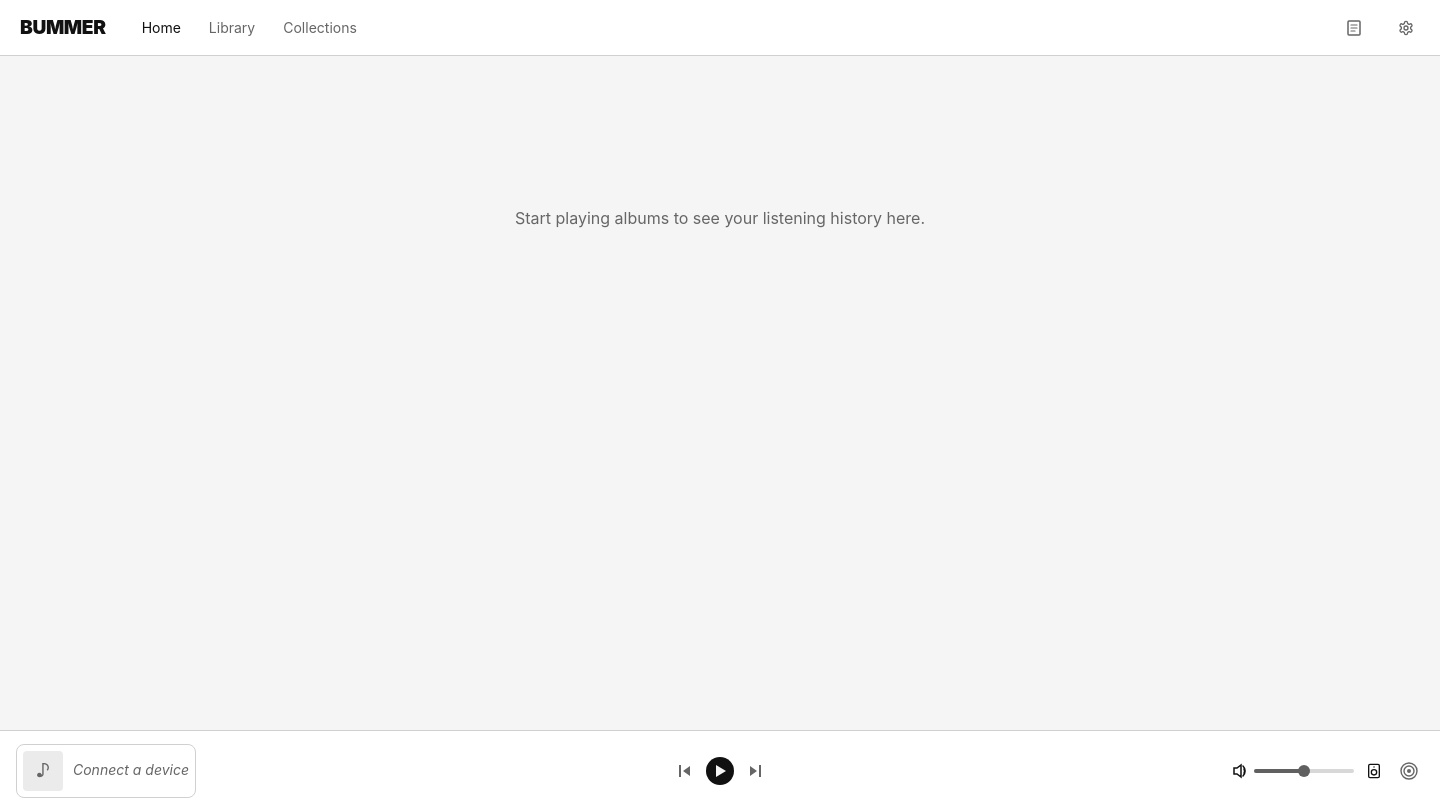
Test case: App — localStorage cache + syncing pulse › updates localStorage after background fetch completes
This screenshot has width=1440, height=810.
Switch to Albums view to see album content
Step 1. Click the button "Library" → (232, 28), box [197, 12, 267, 44]
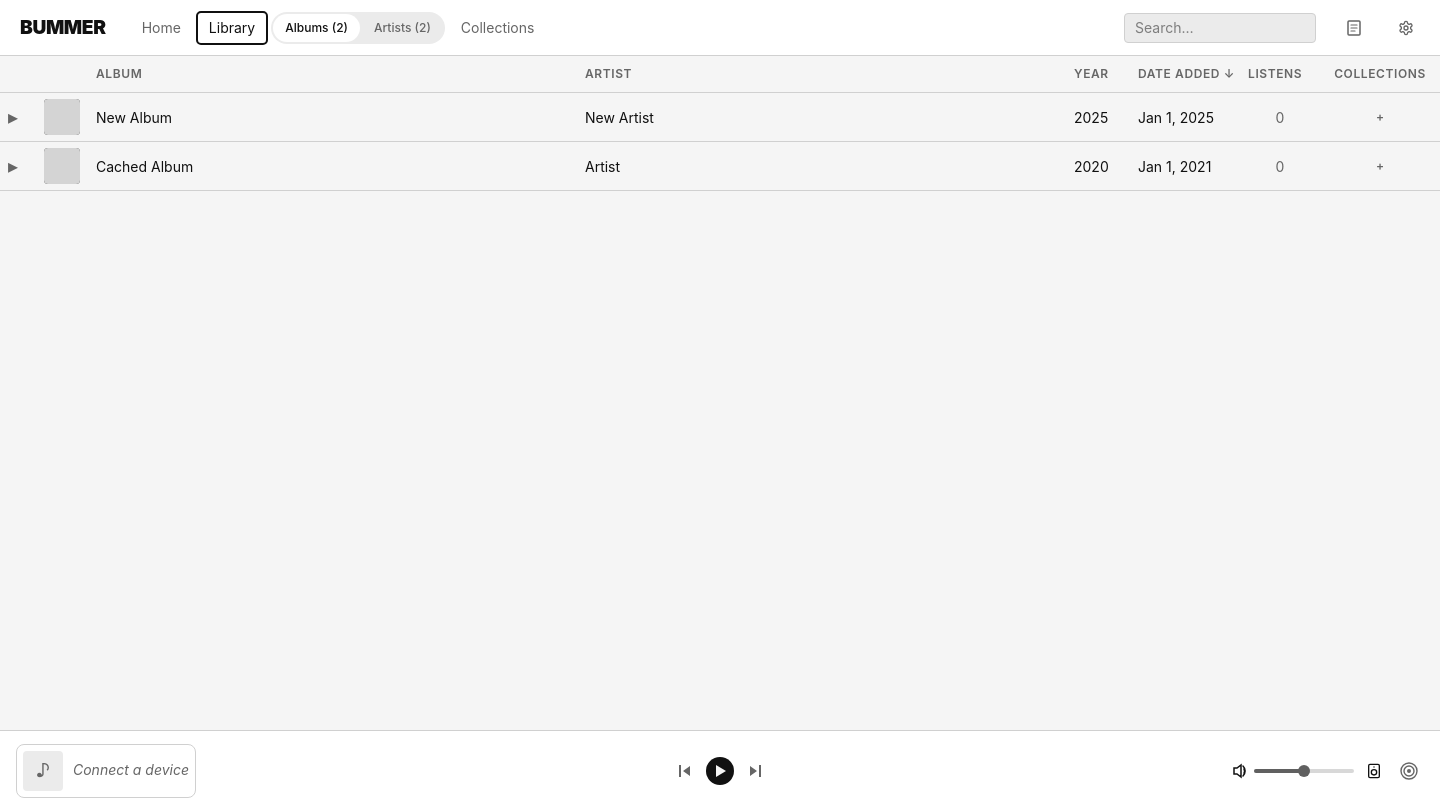
Now the text "New Album" is shown, box [88, 92, 577, 142]
